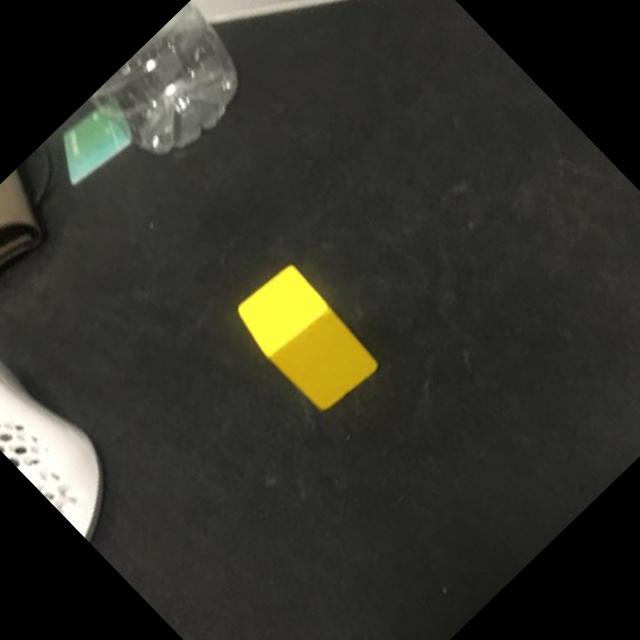yellow: (228, 258, 386, 418)
